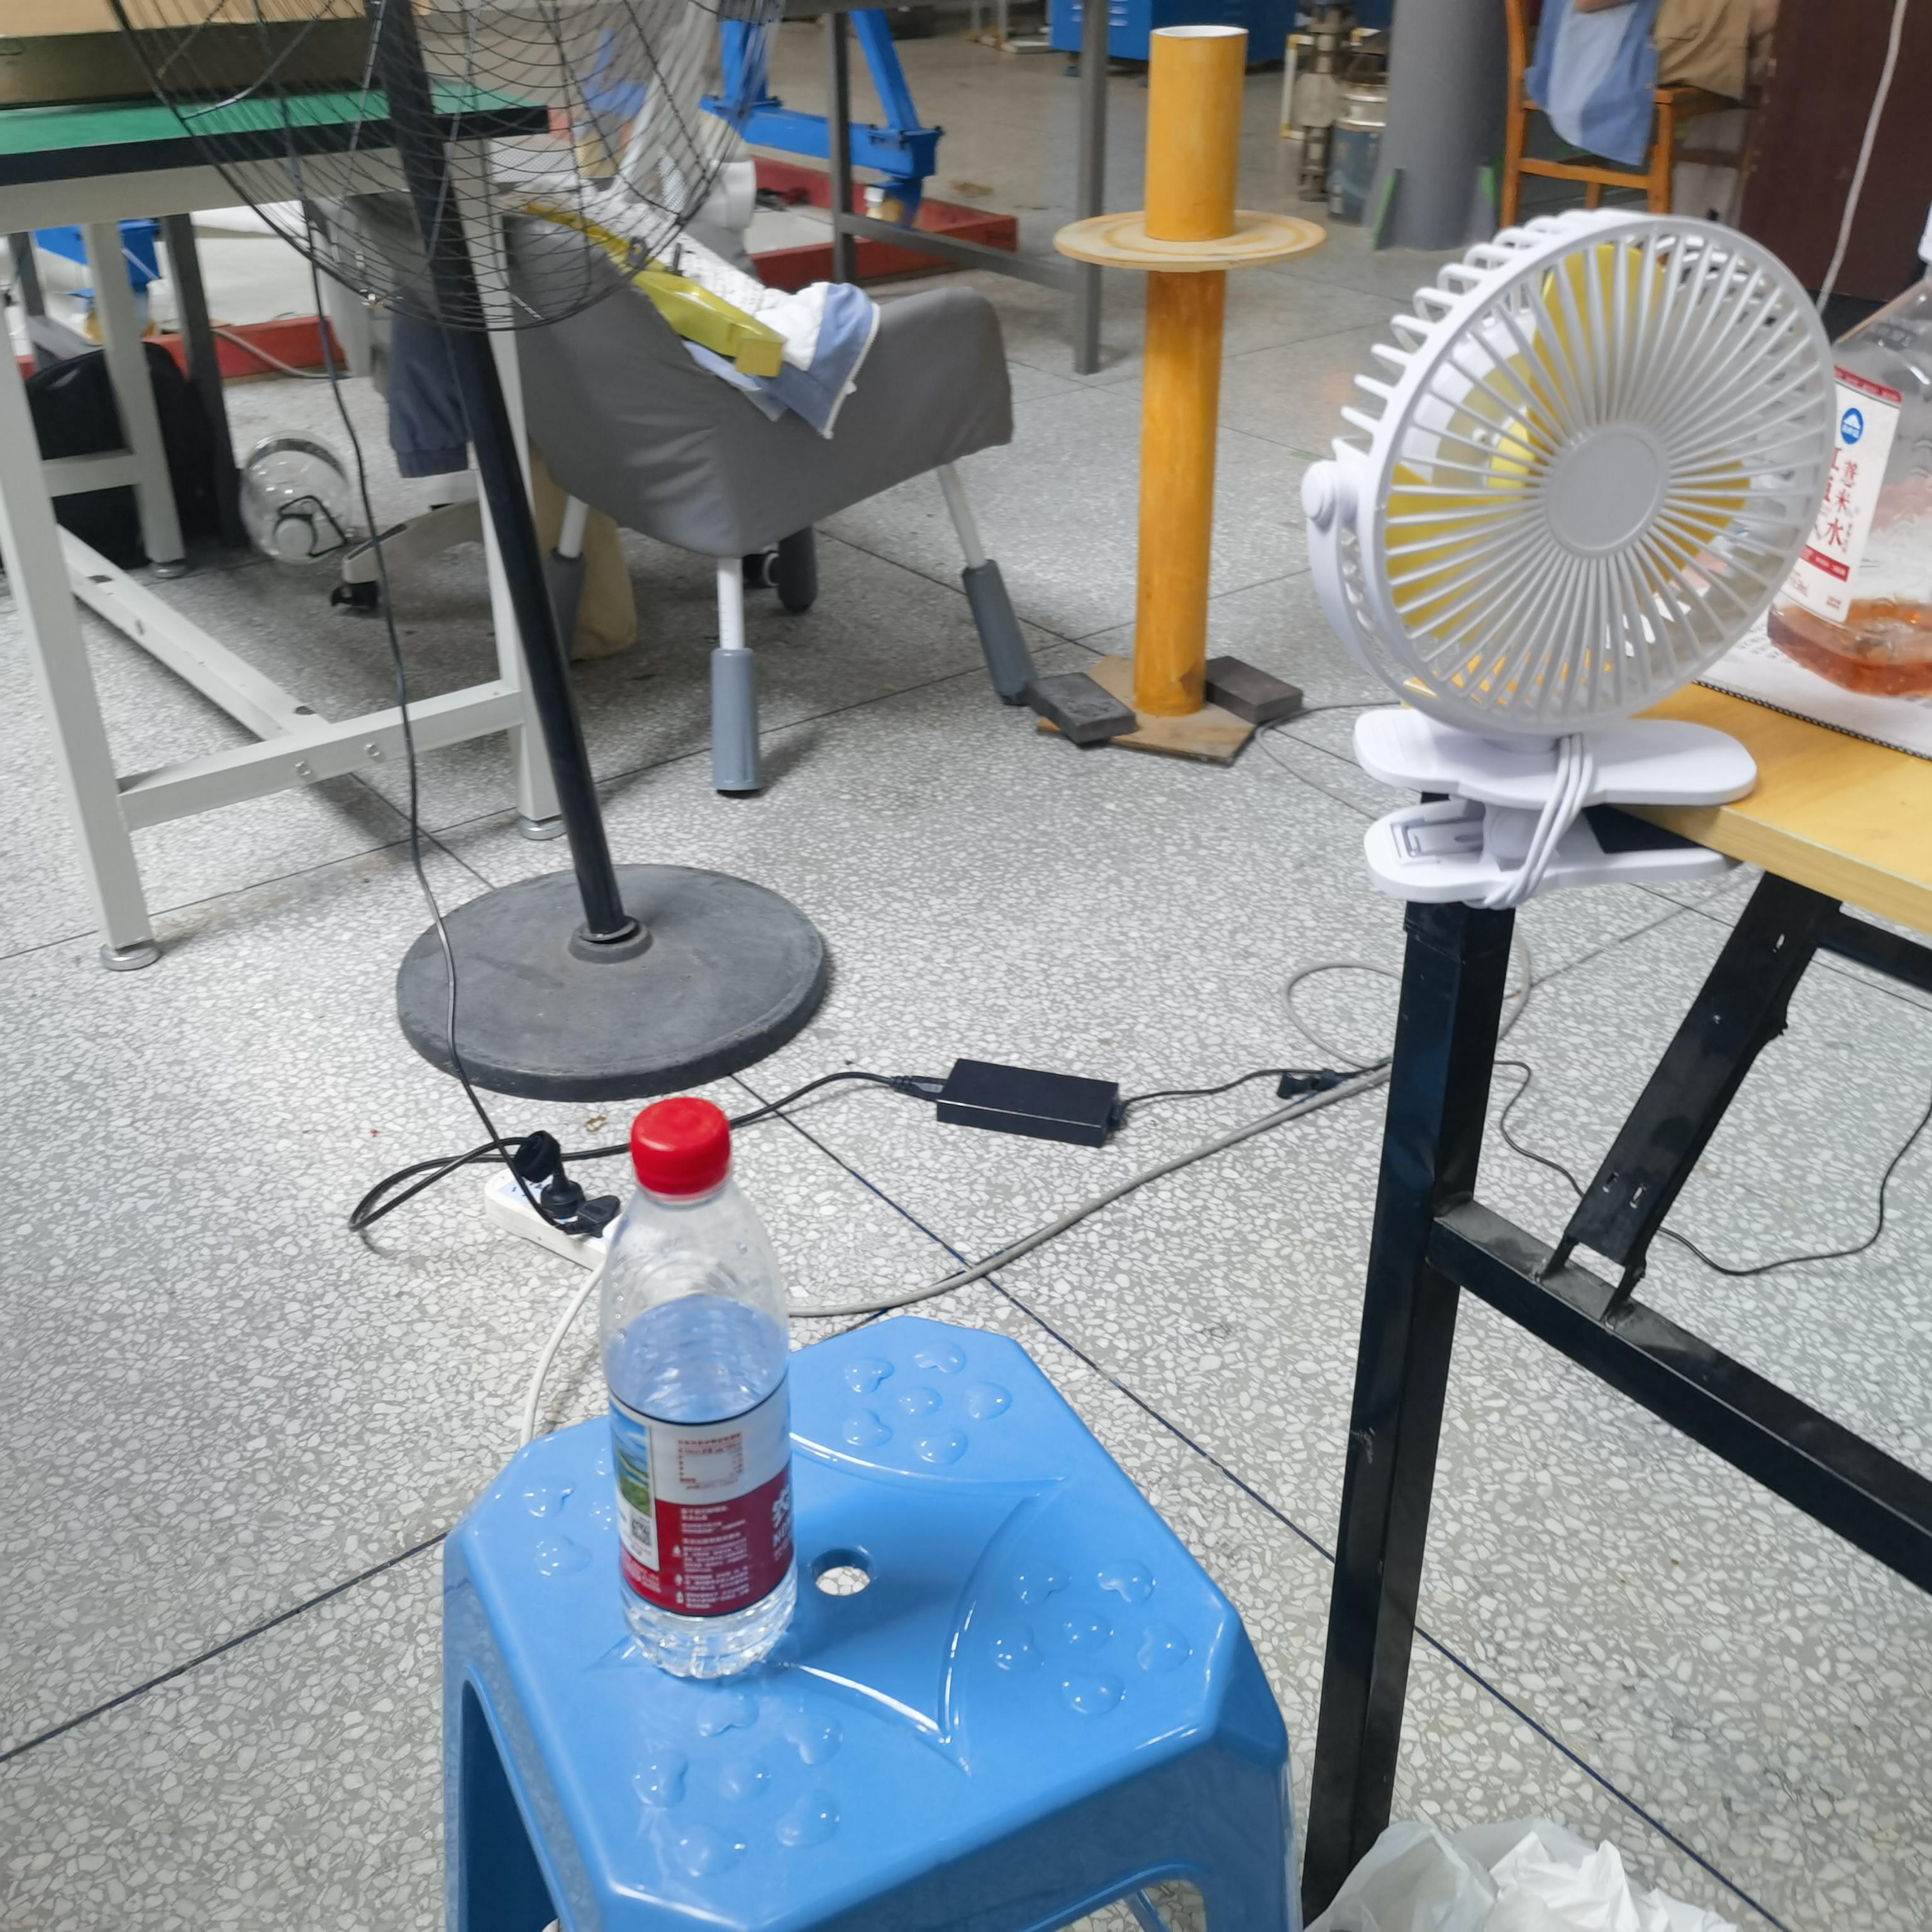bottle: (594, 1086, 807, 1684)
fan: (1305, 199, 1846, 906)
